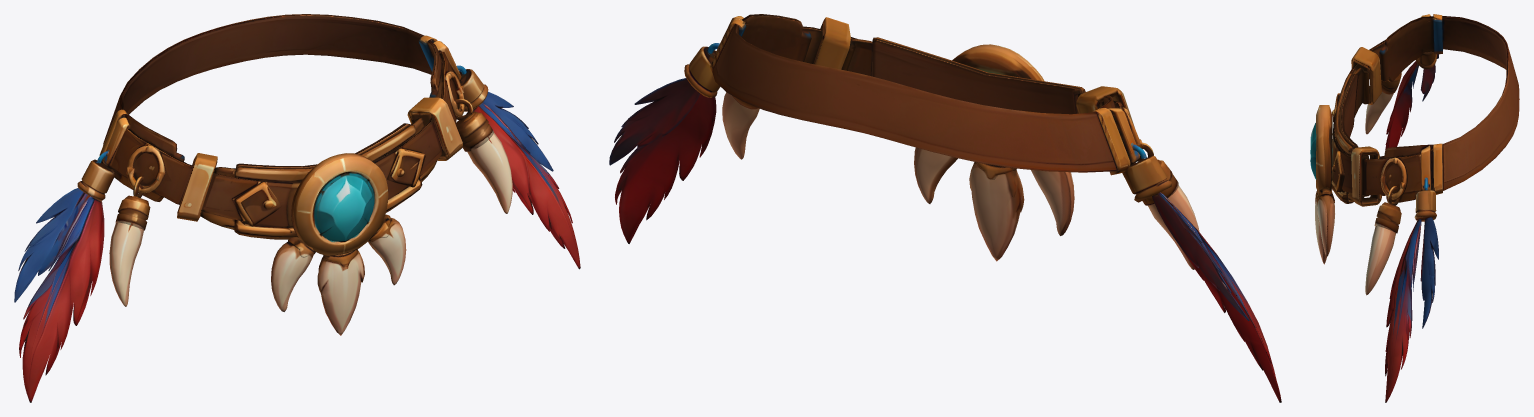
File: baine-belt-hq.glb
3 views of the same model, side by side, from view 1: azimuth 30°, elevation 25°; view 2: azimuth 150°, elevation 25°; view 3: azimuth 270°, elevation 25° (orthographic). The views are drawn at different scales.
Parts seen in each view (by area): view 1: ae2e57ca_813b_4468_bec5_f775b36f41f3; view 2: ae2e57ca_813b_4468_bec5_f775b36f41f3; view 3: ae2e57ca_813b_4468_bec5_f775b36f41f3.
Part boxes in pixels (<box>): ae2e57ca_813b_4468_bec5_f775b36f41f3: <box>14,14,580,402</box>; ae2e57ca_813b_4468_bec5_f775b36f41f3: <box>609,14,1281,402</box>; ae2e57ca_813b_4468_bec5_f775b36f41f3: <box>1310,14,1519,402</box>.
Size of the model in its own units: 1.12 by 0.5028 by 0.4221.
1 material, 1 textured.
